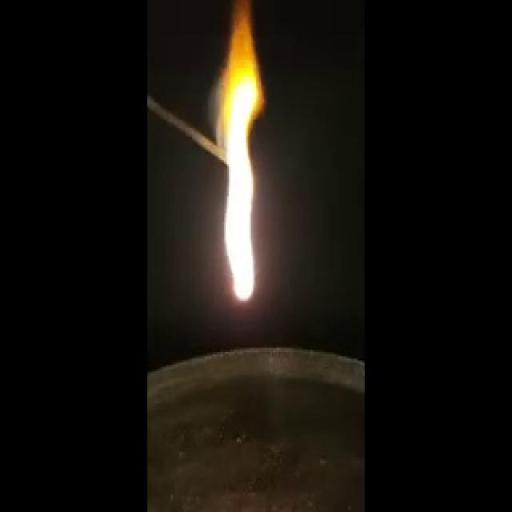smoke: (218, 39, 281, 326)
